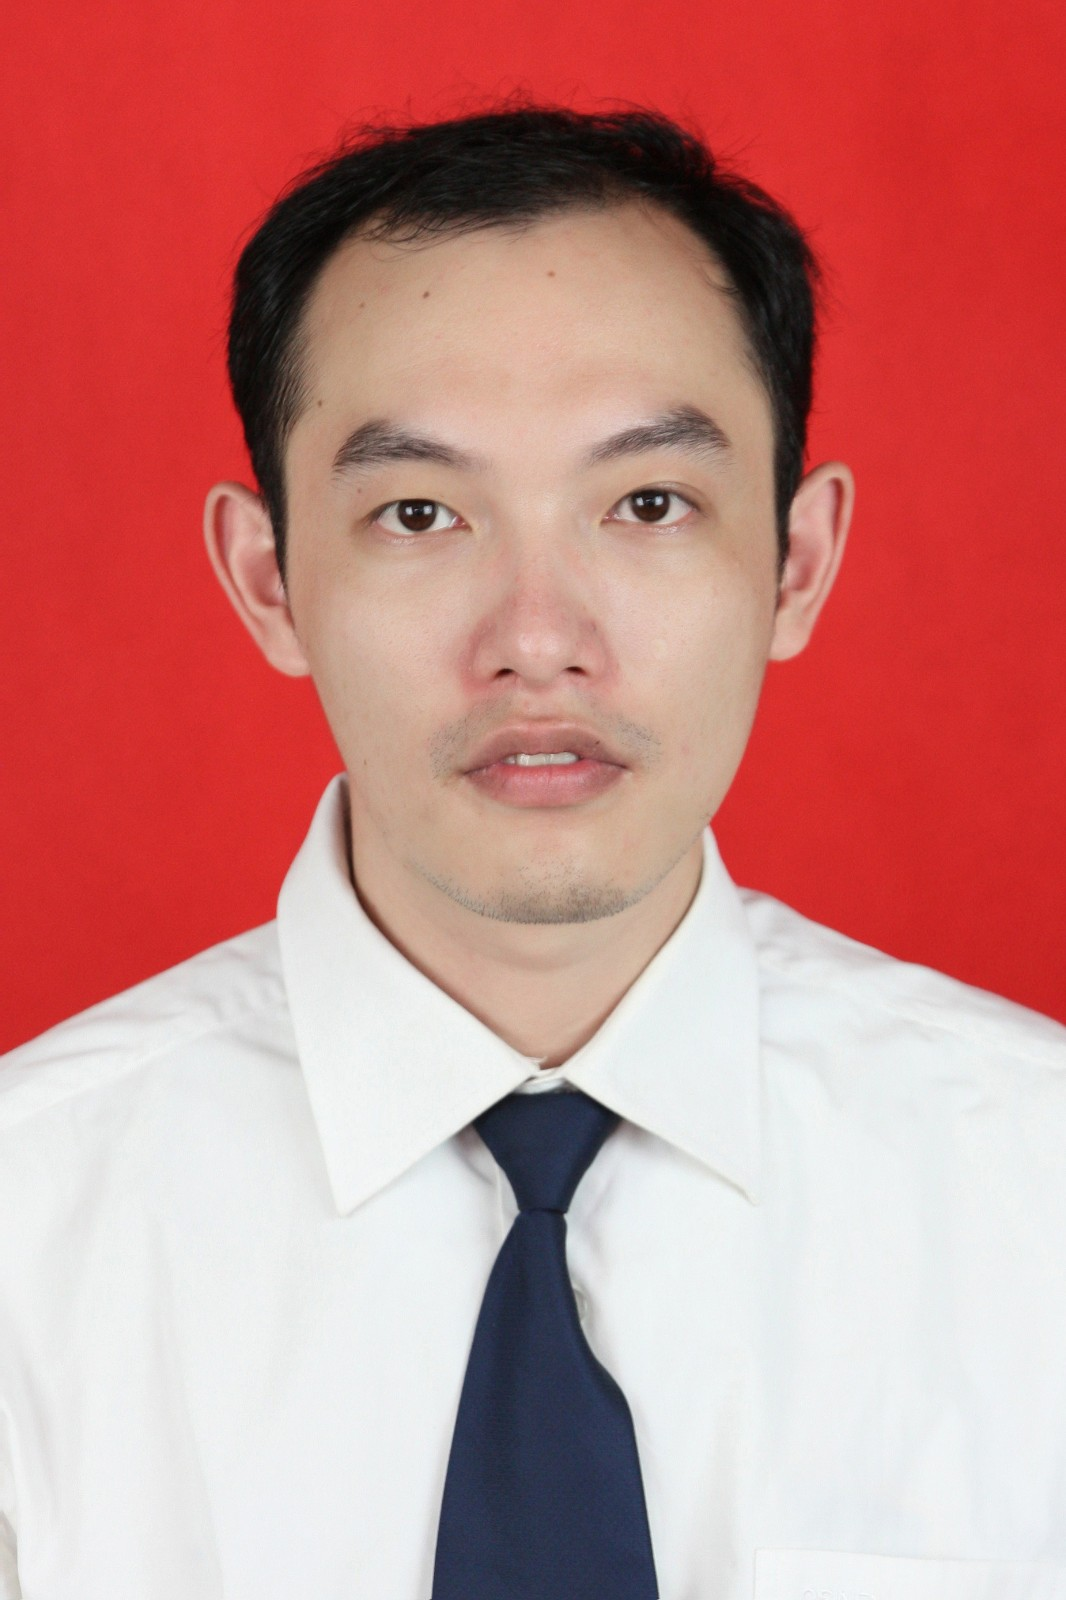unmask: (277, 247, 777, 910)
